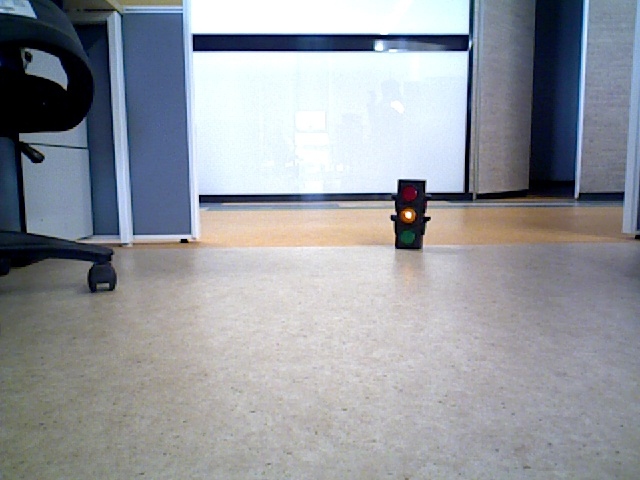yellow: (396, 184, 421, 247)
